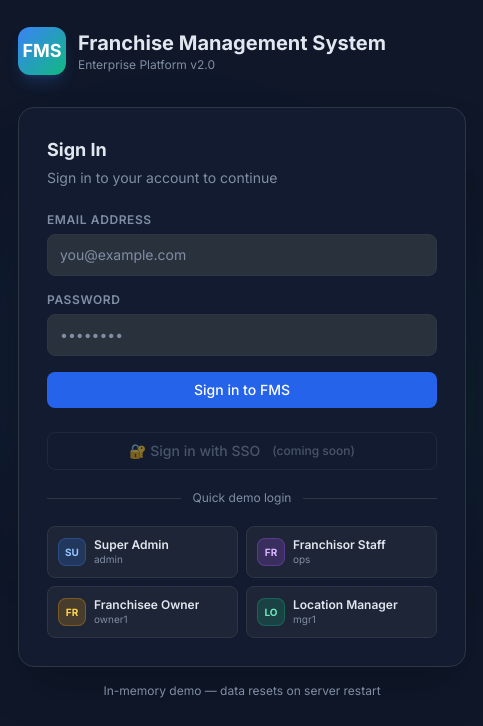
Test: Authentication — Login & Logout › Form validation › shows error on invalid email
Type "not-an-email" into the field labelled "Email Address" at (242, 255), box [47,234,437,276]
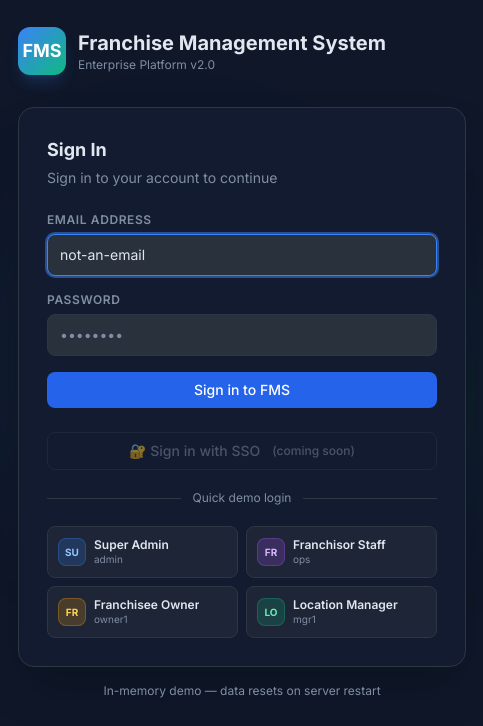
Type "pass" into the password field labelled "Password" at (242, 335), box [47,314,437,356]
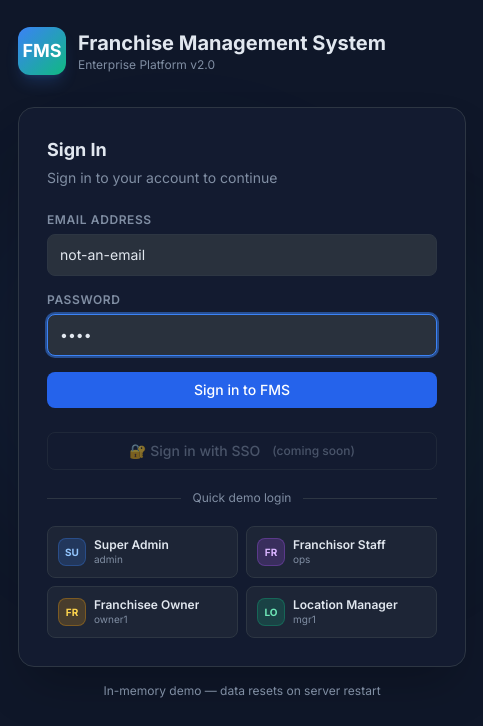
Click the button "Sign in to FMS" at (242, 390), box [47,372,437,408]
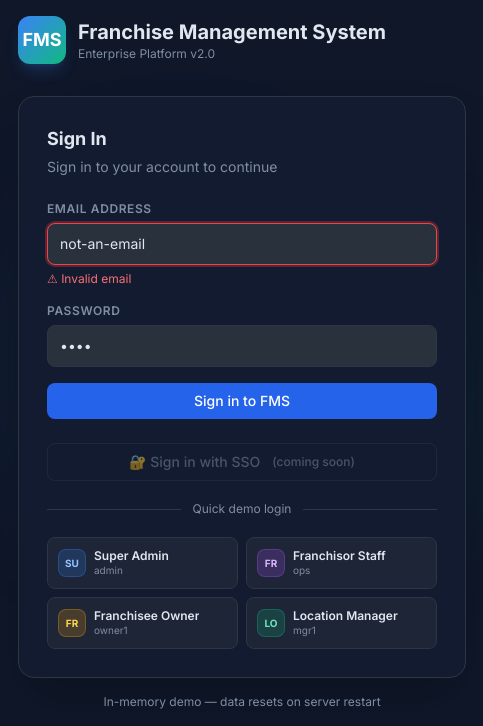
Now the text "⚠ Invalid email" is shown, box [47,271,131,286]
